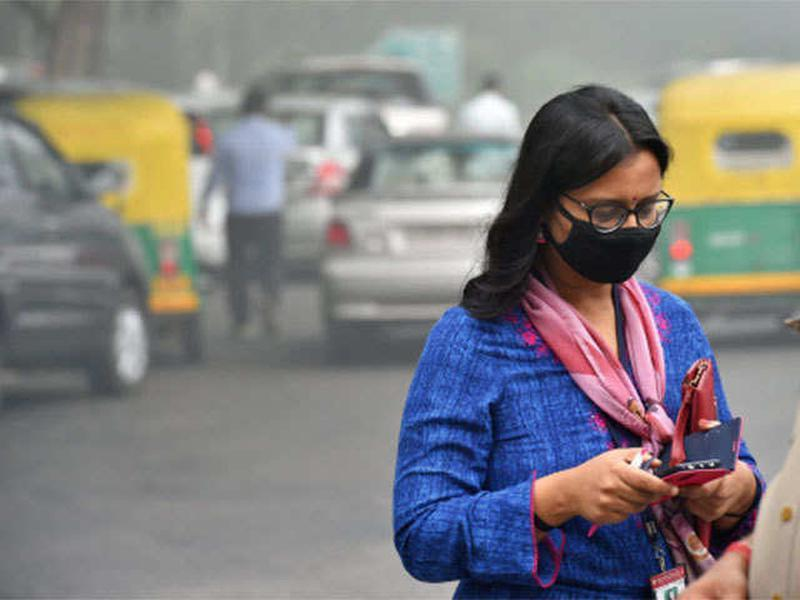mask: (556, 206, 672, 288)
